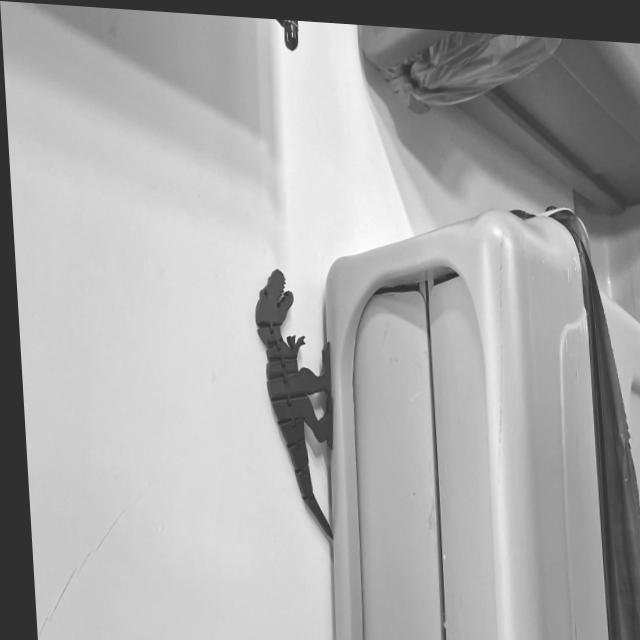dino: (252, 265, 342, 541)
